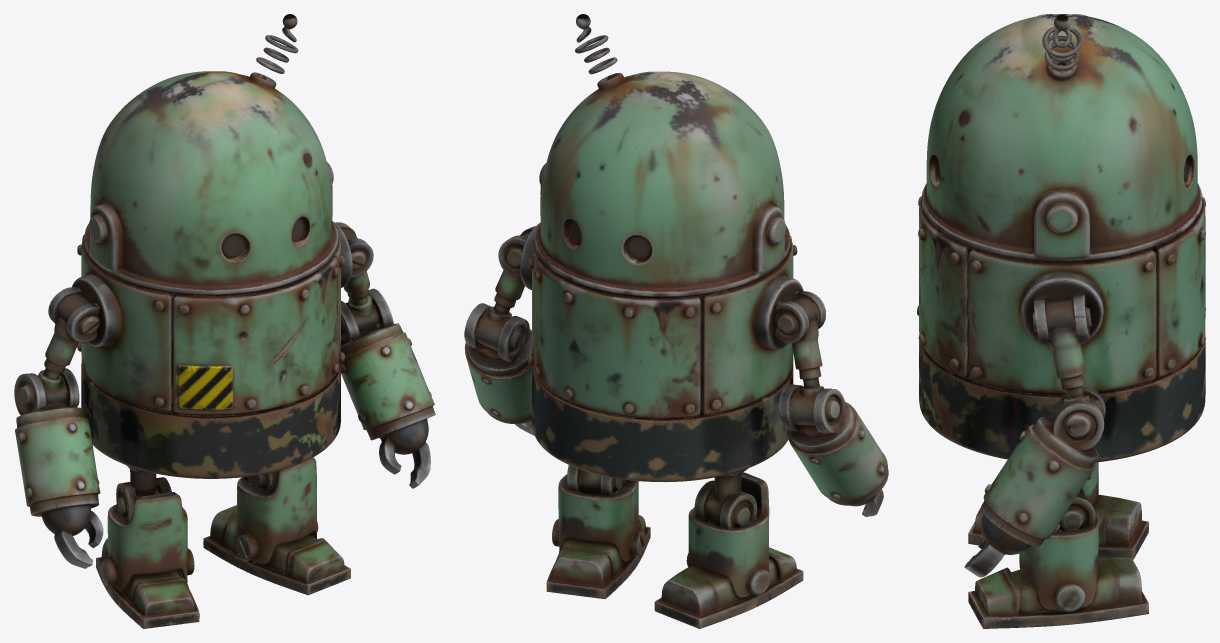
The model's file is tiny_planet_friends_3d-robot-4440.high.glb.
3 views of the same model, side by side, from view 1: azimuth 30°, elevation 25°; view 2: azimuth 150°, elevation 25°; view 3: azimuth 270°, elevation 25° (orthographic). The views are drawn at different scales.
Size of the model in its own units: 1.55 by 2 by 0.8727.
1 material, 1 textured.
